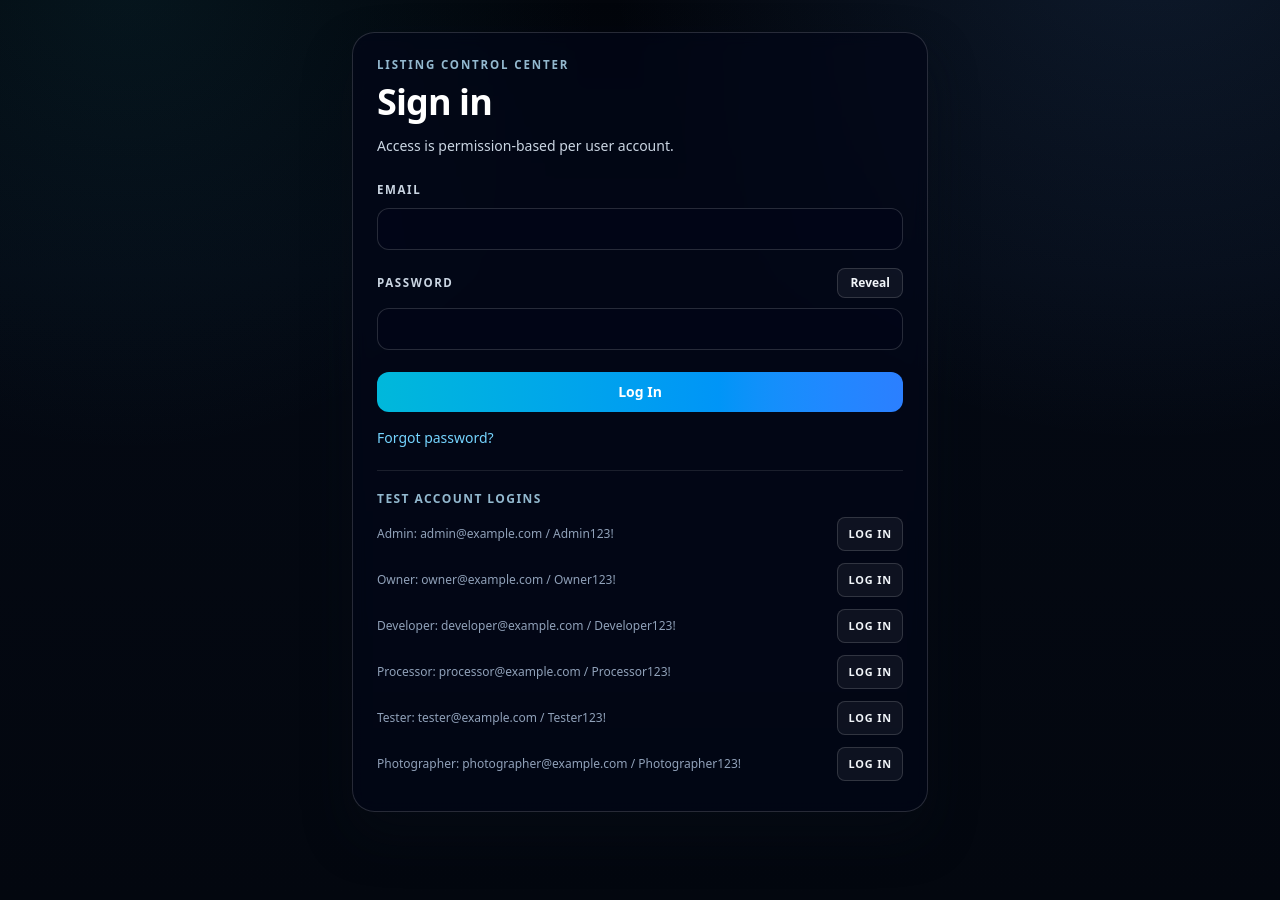
Test: LoginScreen › logs in from a sample account button
Click the button with aria-label "Log In as Processor". click: (870, 672)
box: top-left (837, 655), bottom-right (903, 689)
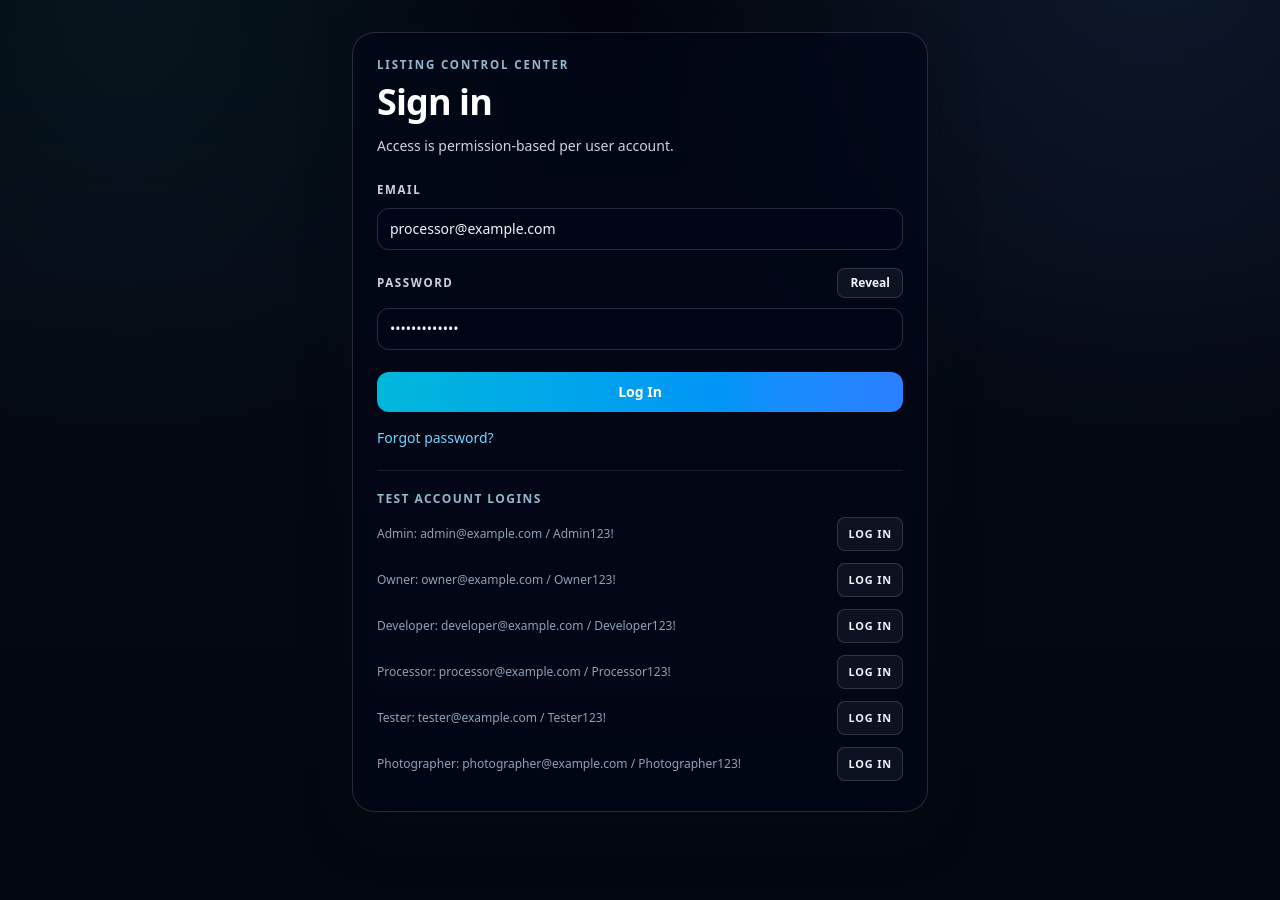
Result: the field labelled "Email" holds "processor@example.com" at top-left (377, 208), bottom-right (903, 250)
Result: the password field labelled "Password" holds "Processor123!" at top-left (377, 308), bottom-right (903, 350)
